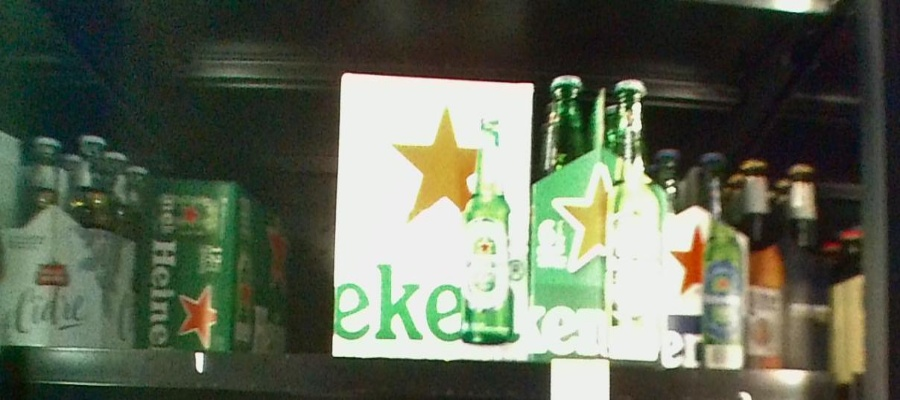bottle: (338, 73, 530, 364), (530, 77, 660, 363), (139, 179, 288, 354), (662, 153, 743, 369), (746, 161, 827, 370)
